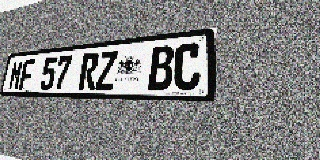5: (39, 57, 58, 90)
7: (53, 55, 72, 90)
B: (148, 45, 175, 90)
C: (173, 42, 202, 90)
F: (18, 59, 36, 90)
M: (8, 60, 24, 90)
R: (78, 52, 100, 90)
Z: (95, 51, 118, 90)
